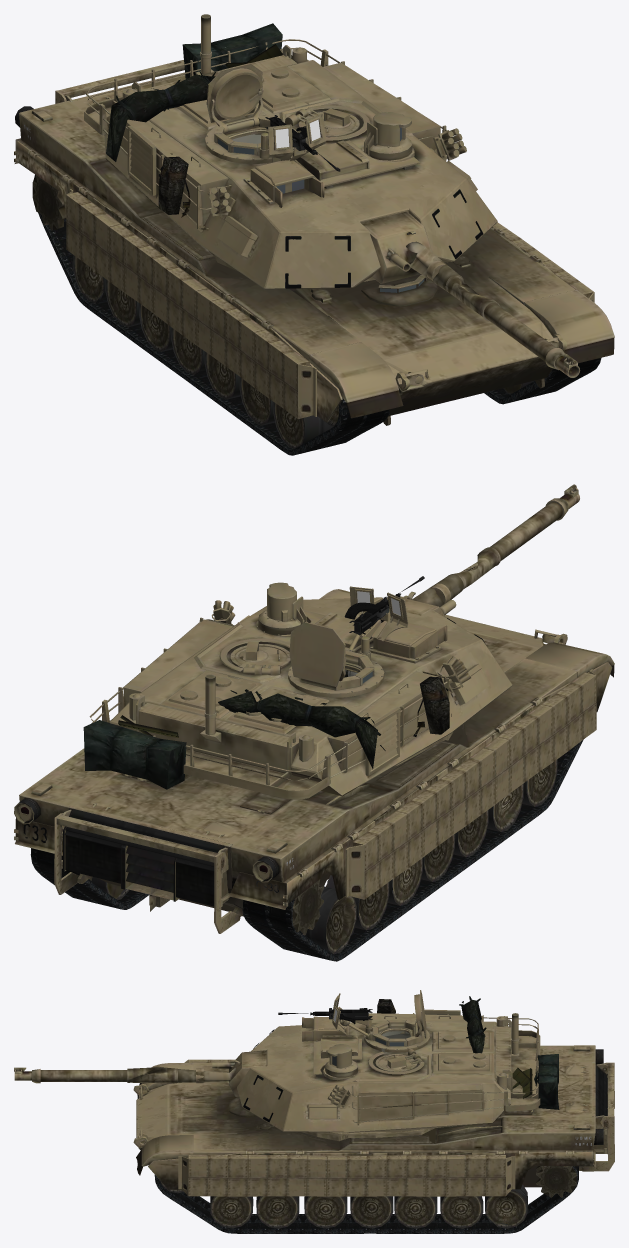
Rendered from abrams.glb.
3 renders of one model, top to bottom at view 1: azimuth 30°, elevation 25°; view 2: azimuth 150°, elevation 25°; view 3: azimuth 270°, elevation 25°, orthographic. The views are drawn at different scales.
Visible parts, largest first — view 1: Object_7, Object_14, Object_6, Object_11, Object_10; view 2: Object_7, Object_14, Object_6, Object_11, Object_5; view 3: Object_7, Object_14, Object_11, Object_6, Object_5.
Part boxes in pixels (left/top/right/bottom): Object_7: left=14, top=50, right=614, bottom=448; Object_14: left=84, top=14, right=497, bottom=289; Object_6: left=106, top=23, right=292, bottom=217; Object_11: left=34, top=174, right=601, bottom=455; Object_10: left=24, top=124, right=483, bottom=288; Object_7: left=14, top=484, right=614, bottom=954; Object_14: left=89, top=582, right=512, bottom=799; Object_6: left=83, top=674, right=451, bottom=789; Object_11: left=30, top=739, right=583, bottom=961; Object_5: left=344, top=576, right=424, bottom=635; Object_7: left=14, top=1045, right=614, bottom=1228; Object_14: left=237, top=990, right=540, bottom=1132; Object_11: left=154, top=1166, right=578, bottom=1233; Object_6: left=377, top=996, right=559, bottom=1109; Object_5: left=278, top=1008, right=372, bottom=1024.
Size of the model in its own units: 3.95 by 3.38 by 10.13.
Materials: 10 (9 with a texture image).
